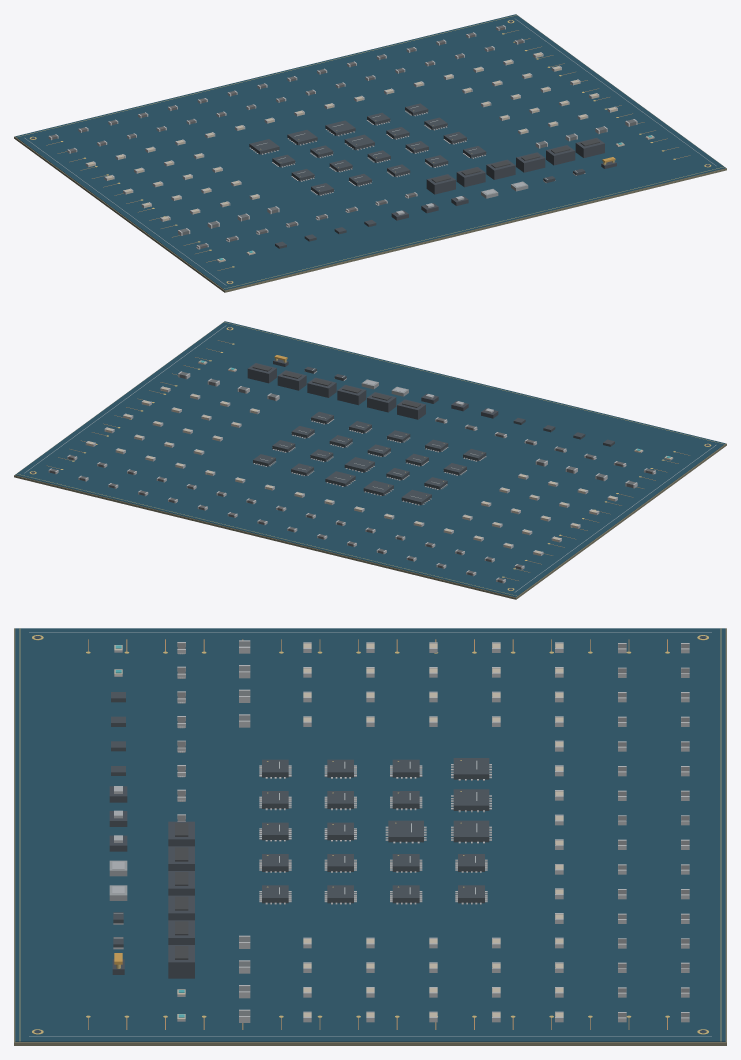
Rendered from 177_L111_AssembledReference.glb.
3 renders of one model, top to bottom at view 1: azimuth 30°, elevation 25°; view 2: azimuth 150°, elevation 25°; view 3: azimuth 270°, elevation 25°, orthographic. The views are drawn at different scales.
Visible parts, largest first — view 1: Soldermask_Midnight, IC_Epoxy, Tin_Solder, Connector_Polymer, FR4_Core, Ceramic_Ivory, Resistor_Graphite, Gold_ENIG, Rubber_Black; view 2: Soldermask_Midnight, IC_Epoxy, Tin_Solder, Connector_Polymer, FR4_Core, Ceramic_Ivory, Resistor_Graphite, Gold_ENIG, Rubber_Black; view 3: Soldermask_Midnight, IC_Epoxy, Tin_Solder, FR4_Core, Connector_Polymer, Ceramic_Ivory, Gold_ENIG, Resistor_Graphite, Silkscreen_White, Rubber_Black.
Part boxes in pixels (bbox=[...]): Soldermask_Midnight: bbox=[15, 14, 725, 290]; IC_Epoxy: bbox=[249, 103, 585, 248]; Tin_Solder: bbox=[48, 25, 654, 262]; Connector_Polymer: bbox=[391, 138, 616, 220]; FR4_Core: bbox=[14, 14, 726, 292]; Ceramic_Ivory: bbox=[87, 52, 653, 262]; Resistor_Graphite: bbox=[50, 25, 523, 248]; Gold_ENIG: bbox=[16, 15, 724, 288]; Rubber_Black: bbox=[431, 139, 599, 182]; Soldermask_Midnight: bbox=[15, 321, 725, 597]; IC_Epoxy: bbox=[253, 367, 614, 505]; Tin_Solder: bbox=[48, 362, 673, 583]; Connector_Polymer: bbox=[247, 359, 498, 419]; FR4_Core: bbox=[14, 321, 726, 599]; Ceramic_Ivory: bbox=[87, 360, 672, 555]; Resistor_Graphite: bbox=[49, 418, 654, 582]; Gold_ENIG: bbox=[16, 322, 724, 595]; Rubber_Black: bbox=[252, 364, 420, 407]; Soldermask_Midnight: bbox=[15, 628, 725, 1041]; IC_Epoxy: bbox=[111, 692, 489, 947]; Tin_Solder: bbox=[113, 640, 689, 1022]; FR4_Core: bbox=[14, 628, 726, 1045]; Connector_Polymer: bbox=[109, 786, 194, 978]; Ceramic_Ivory: bbox=[114, 643, 563, 1019]; Gold_ENIG: bbox=[19, 628, 721, 1041]; Resistor_Graphite: bbox=[177, 643, 689, 1017]; Silkscreen_White: bbox=[29, 632, 711, 1036]; Rubber_Black: bbox=[175, 823, 188, 959].
Bounding box in the file's own units: 0.33 × 0.00815 × 0.24.
